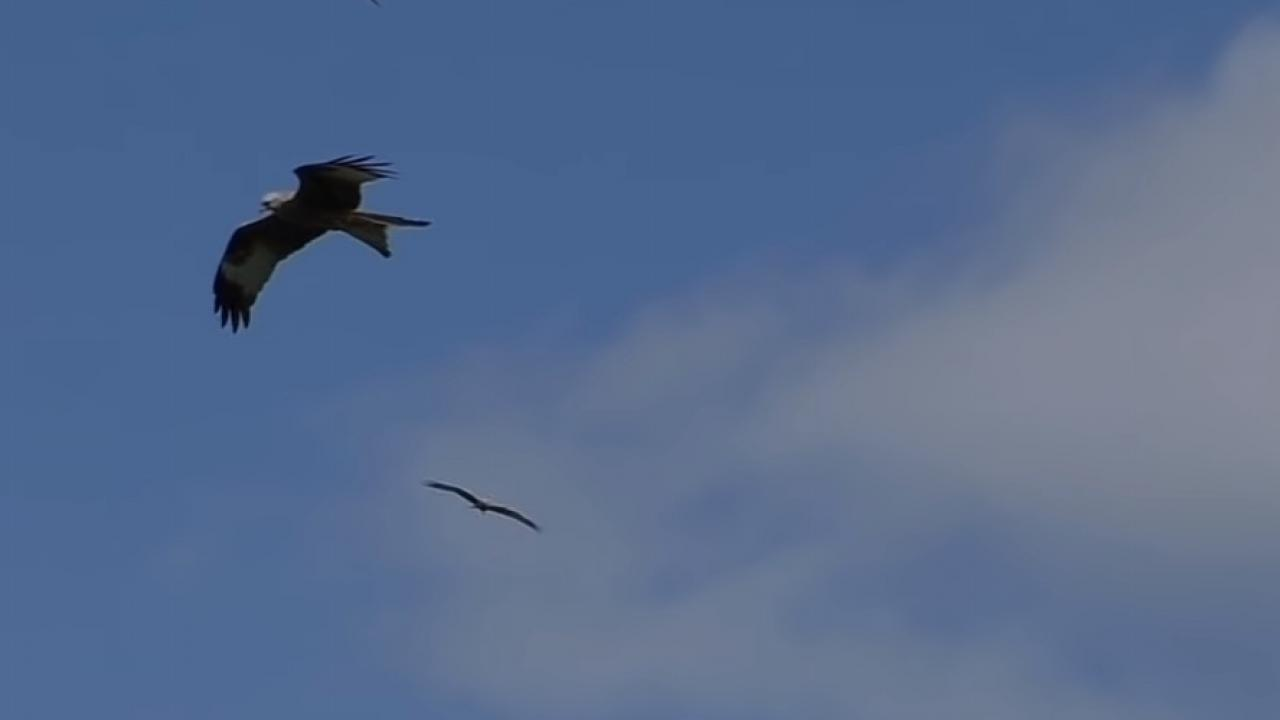Bird: (205, 142, 440, 338), (412, 470, 552, 542)
